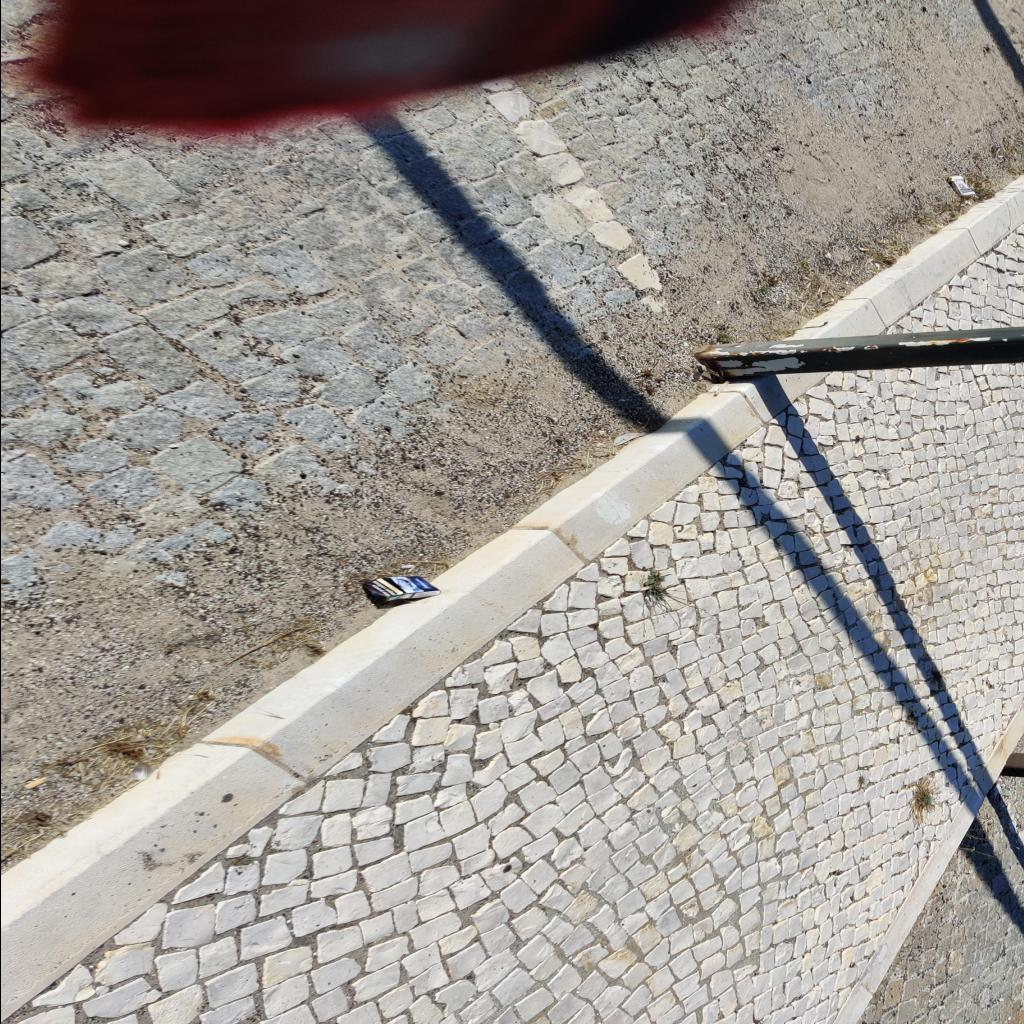Cigarette: (26, 776, 50, 788), (857, 248, 870, 252), (402, 564, 412, 568)
Other carton: (360, 576, 438, 600), (946, 175, 974, 196)
